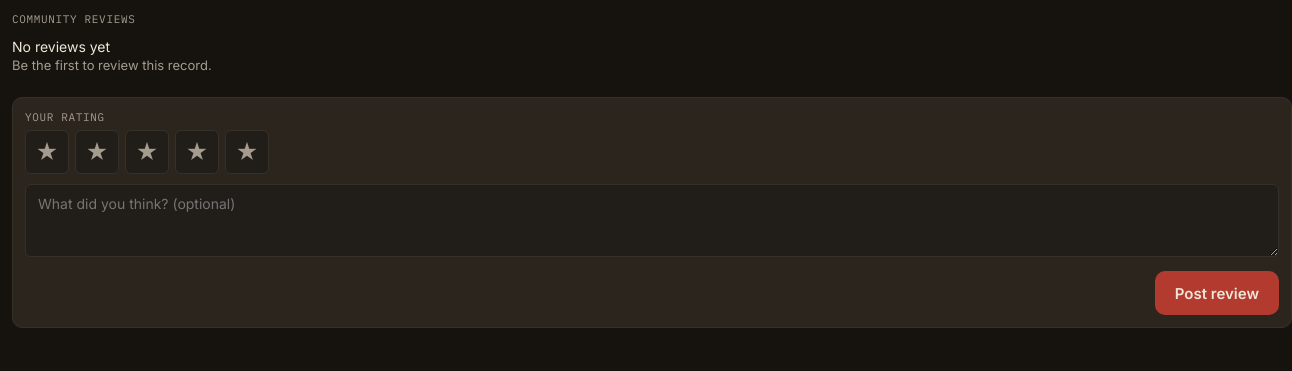
Test: ReviewsSection › requires a rating before submitting
Step 1. Type "No stars" into the text box → (652, 220), box [25,184,1279,257]
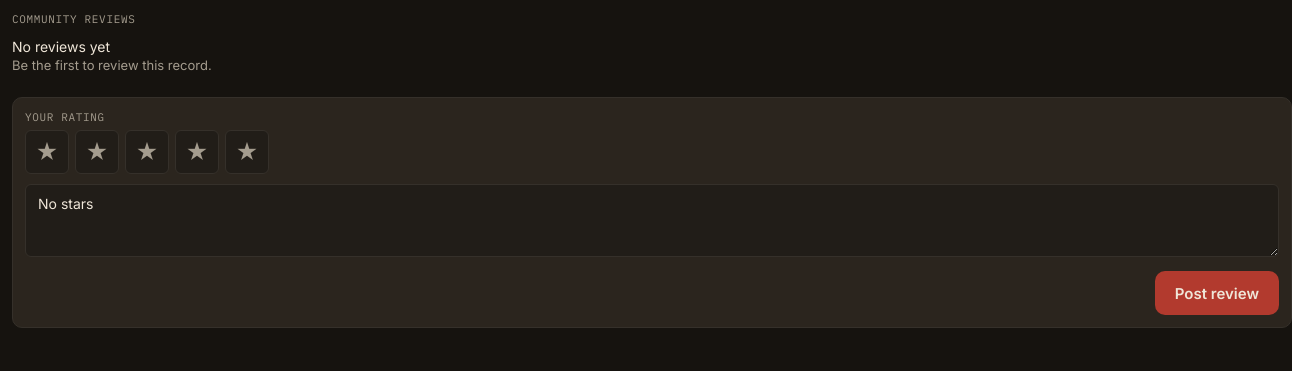
Step 2. Click the button "Post review" → (1217, 293), box [1155,271,1279,315]
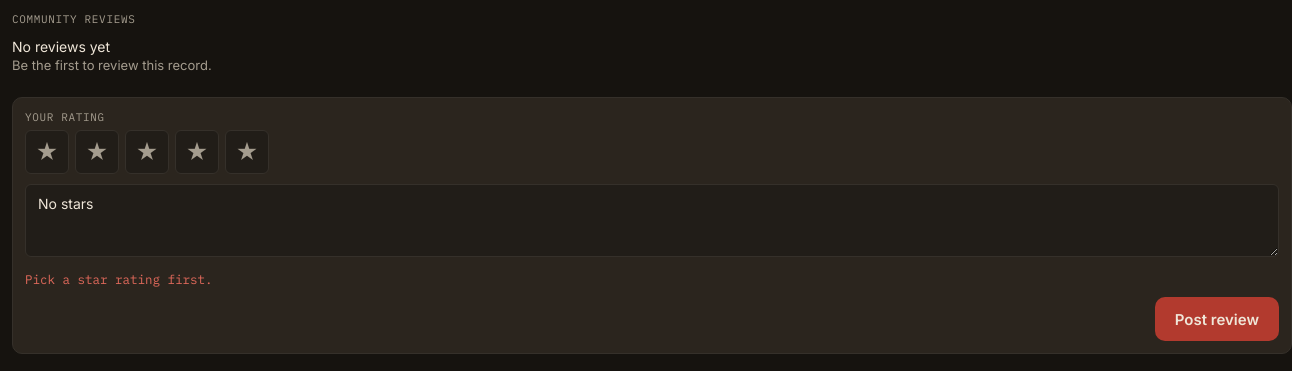
Now the text "Pick a star rating first." is shown, box [25,271,212,287]
